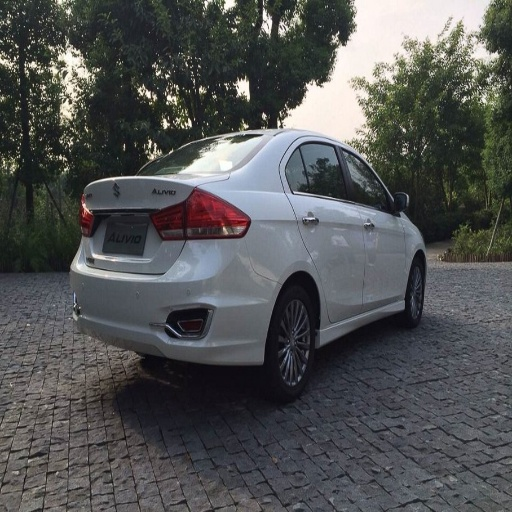back_bumper: (69, 237, 282, 361)
back_right_door: (285, 136, 364, 323)
